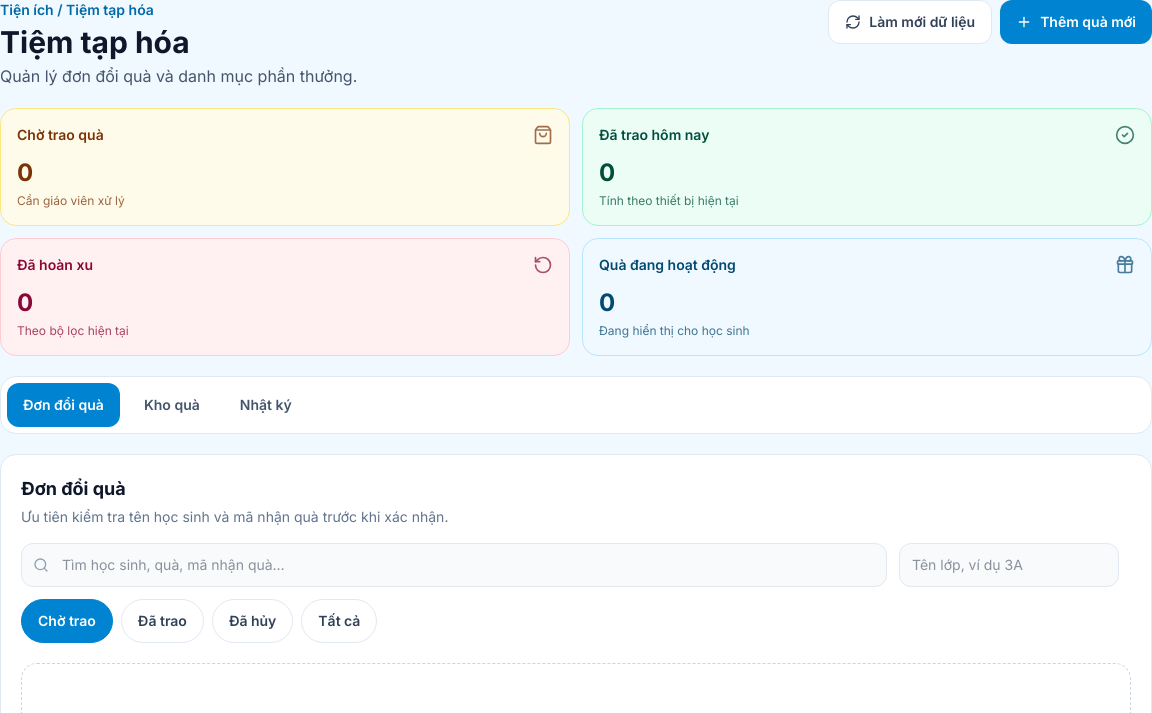
Scenario: TeacherDashboard GiftShopTab contracts › loads admin audit data and refreshes orders when admin filters change
Type "4B" into the field with placeholder "Tên lớp, ví dụ 3A" at (1009, 565), box [899,543,1119,587]
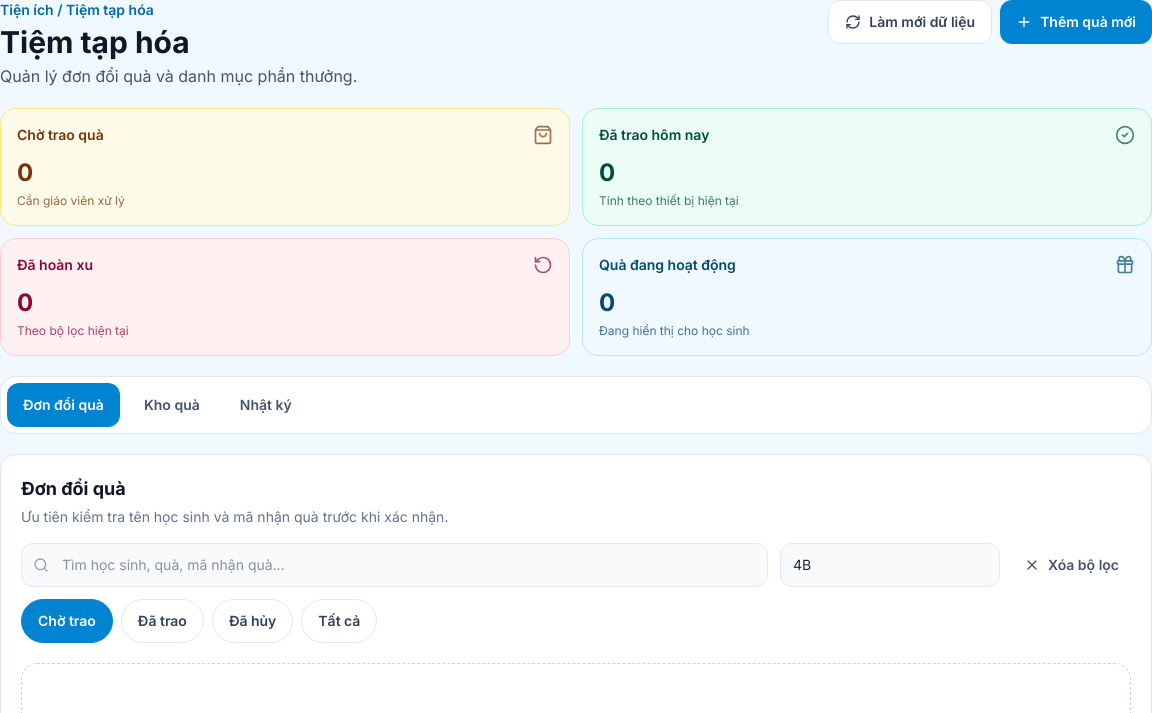
Click the button "Nhật ký" at (266, 405), box [224,383,308,427]
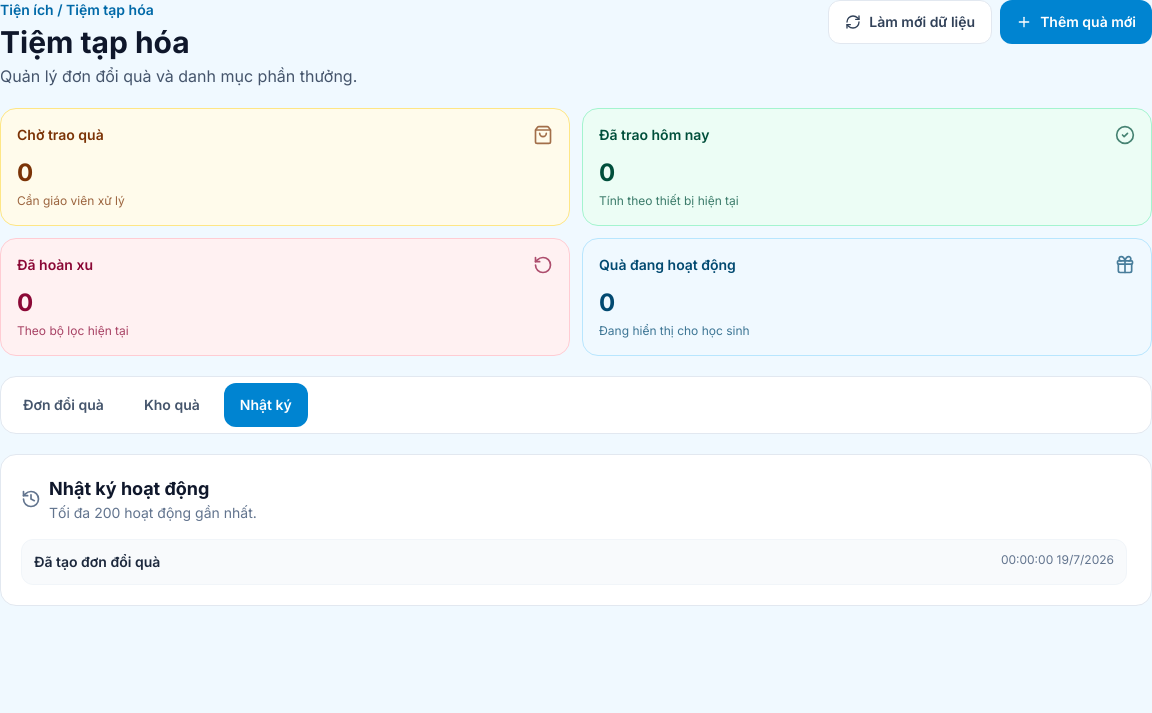
Result: the text "Đã tạo đơn đổi quà" is shown at [34,552,160,572]
Result: the heading "Nhật ký hoạt động" is shown at [49,478,209,499]
